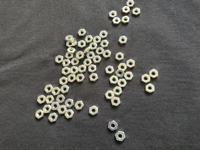nut: (116, 132, 126, 142), (65, 99, 75, 109), (109, 121, 118, 132), (49, 113, 58, 123), (90, 106, 99, 116), (75, 101, 85, 110), (56, 95, 66, 104), (52, 87, 61, 97), (112, 97, 121, 107), (105, 91, 115, 100), (113, 87, 123, 96), (146, 84, 155, 94), (142, 74, 151, 84), (150, 69, 159, 79), (118, 63, 128, 72), (35, 110, 44, 119), (43, 105, 52, 114), (51, 102, 60, 111), (58, 106, 67, 115), (65, 110, 74, 119), (37, 95, 46, 104), (61, 85, 70, 94), (118, 79, 127, 88), (110, 76, 119, 85), (116, 69, 125, 78), (76, 74, 85, 83), (90, 73, 99, 82), (78, 65, 87, 74), (76, 51, 85, 60), (45, 96, 55, 104), (124, 72, 134, 80), (45, 85, 53, 94), (106, 66, 115, 74), (127, 59, 135, 68), (116, 52, 124, 61), (119, 36, 128, 44), (60, 77, 68, 86), (68, 74, 76, 83), (62, 67, 70, 76), (70, 66, 78, 75), (62, 59, 71, 67), (71, 58, 80, 66), (103, 50, 112, 58), (85, 35, 94, 43), (93, 36, 102, 44), (89, 65, 97, 73), (66, 52, 74, 60), (84, 47, 92, 55), (90, 43, 98, 51), (101, 40, 109, 48), (100, 31, 108, 39), (122, 16, 130, 24), (133, 8, 141, 16), (83, 59, 92, 66), (93, 56, 102, 63), (56, 56, 63, 64), (87, 52, 95, 59), (96, 48, 104, 55), (66, 35, 74, 42), (78, 41, 86, 48), (78, 29, 86, 36), (113, 17, 121, 24), (123, 6, 130, 14), (127, 0, 135, 7), (67, 48, 76, 54), (110, 11, 117, 18), (72, 38, 77, 46), (67, 42, 73, 48)
